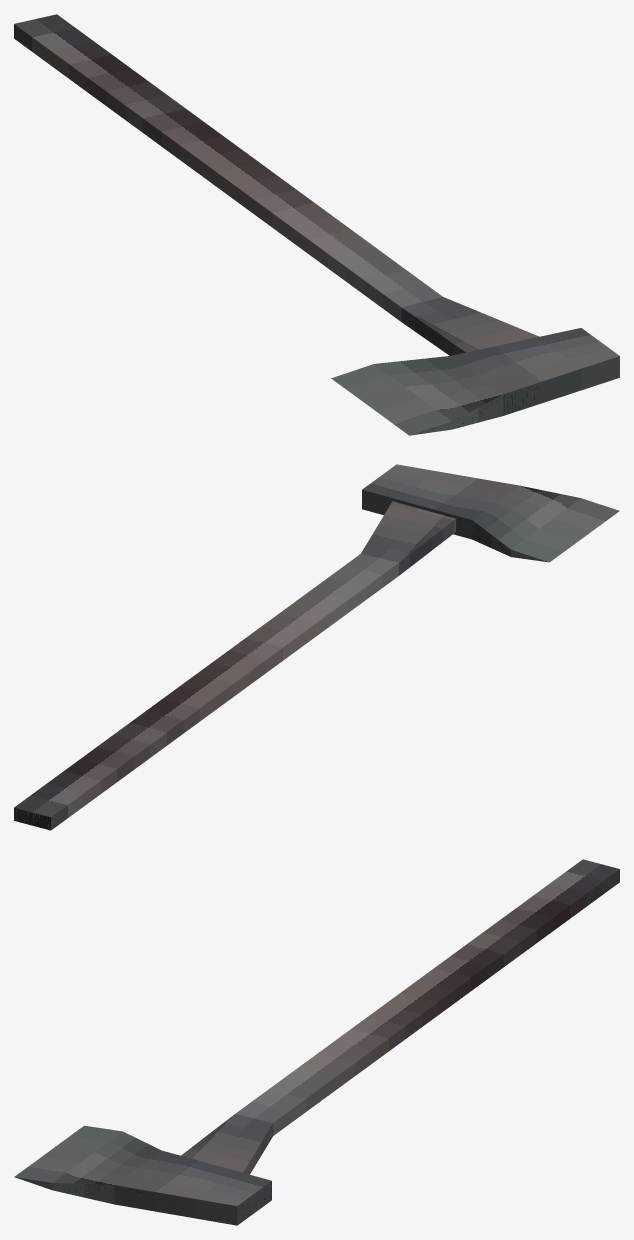
Rendered from Axe01.obj.
3 renders of one model, top to bottom at view 1: azimuth 30°, elevation 25°; view 2: azimuth 150°, elevation 25°; view 3: azimuth 330°, elevation 25°, orthographic. The views are drawn at different scales.
Parts seen in each view (by area): view 1: Axe01; view 2: Axe01; view 3: Axe01.
Part boxes in pixels (x1,y1,x2,y2): Axe01: (14, 14, 619, 435); Axe01: (14, 464, 619, 830); Axe01: (14, 859, 619, 1225).
Size of the model in its own units: 0.3005 by 0.0271 by 1.17.
